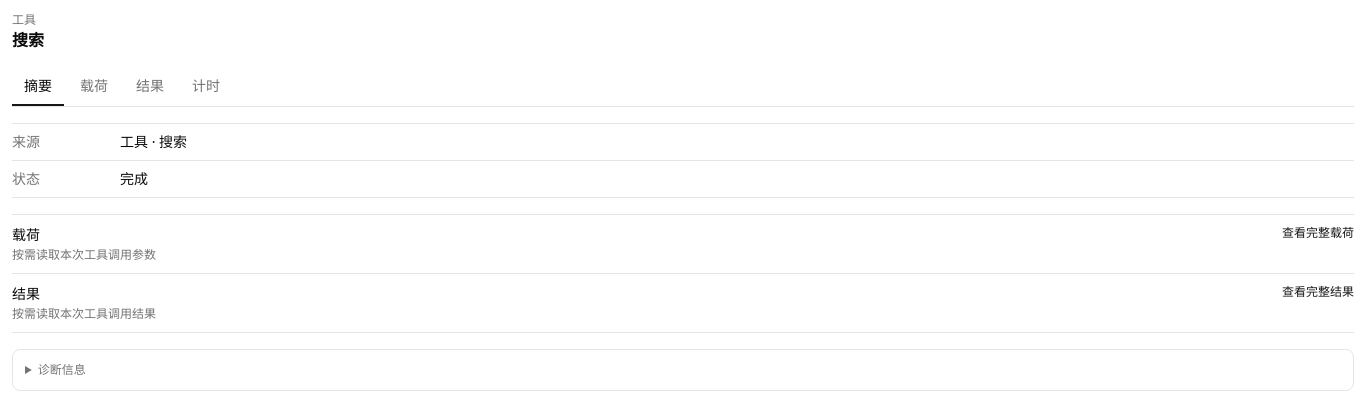
Test: TrajectoryNodeDetailPanel › not_recorded 与本地 Summary 保持独立并显示确定性文案
Click the tab "结果". click: (150,87)
box: [124,68,176,106]
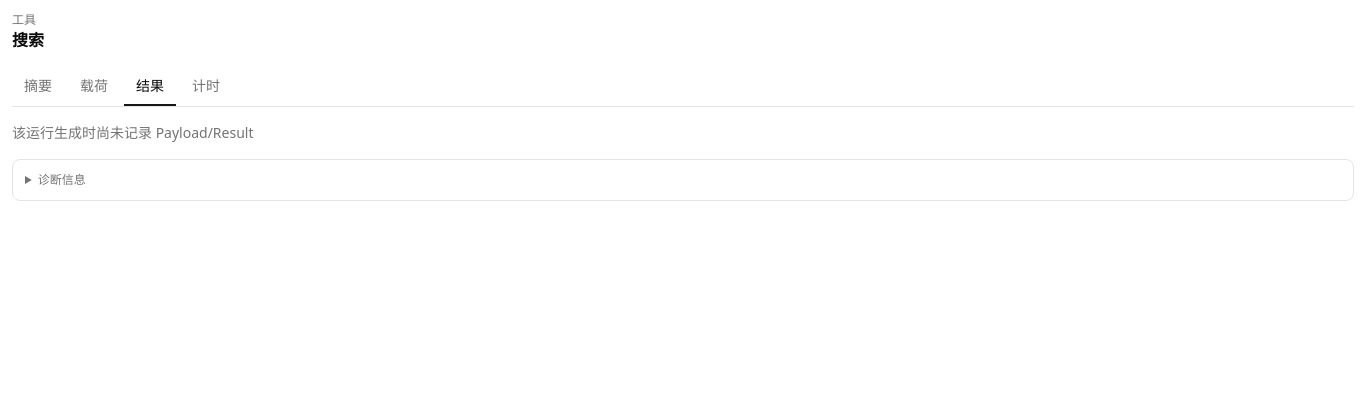
Check: the text "该运行生成时尚未记录 Payload/Result" is shown, box [12,123,254,142]
Click the tab "摘要". click: (38,87)
box: [12,68,64,106]
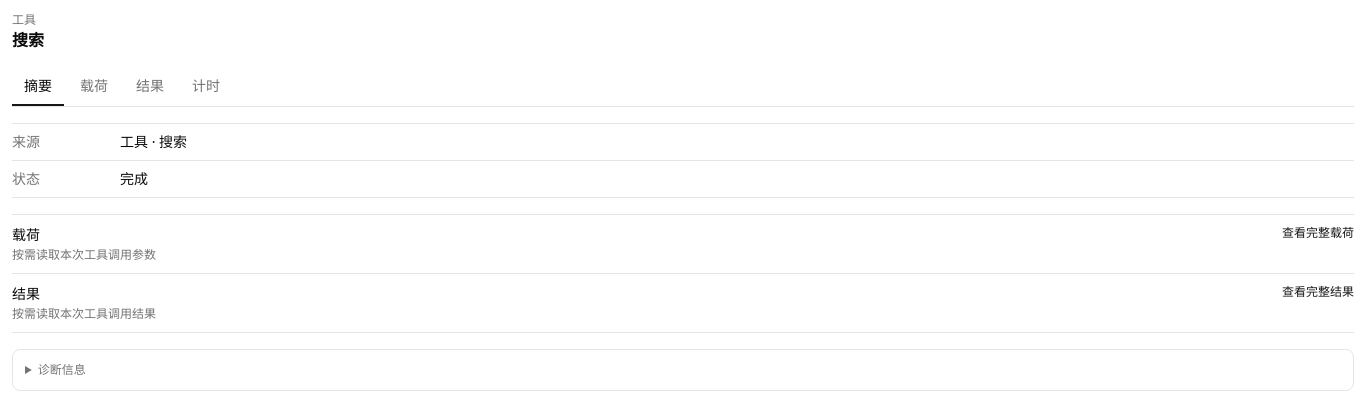
Check: the panel named "摘要" shows "工具调用", box [12,246,156,263]
